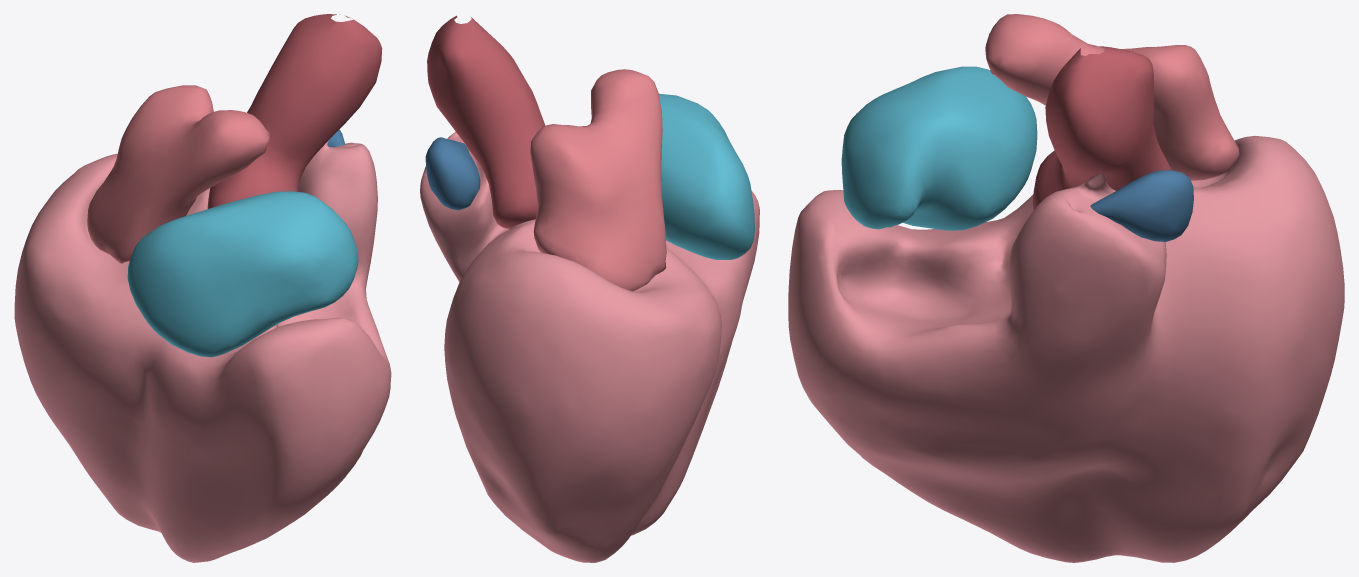
File: frame_59.glb
3 renders of one model, left to right at view 1: azimuth 30°, elevation 25°; view 2: azimuth 150°, elevation 25°; view 3: azimuth 270°, elevation 25°, orthographic. The views are drawn at different scales.
Parts seen in each view (by area): view 1: Renderer Node; view 2: Renderer Node; view 3: Renderer Node.
Boxes of the visible parts, x1=… form: Renderer Node: x1=14, y1=14, x2=391, y2=562; Renderer Node: x1=420, y1=15, x2=759, y2=562; Renderer Node: x1=788, y1=14, x2=1344, y2=562.
Bounding box in the file's own units: 107 × 164 × 137.
